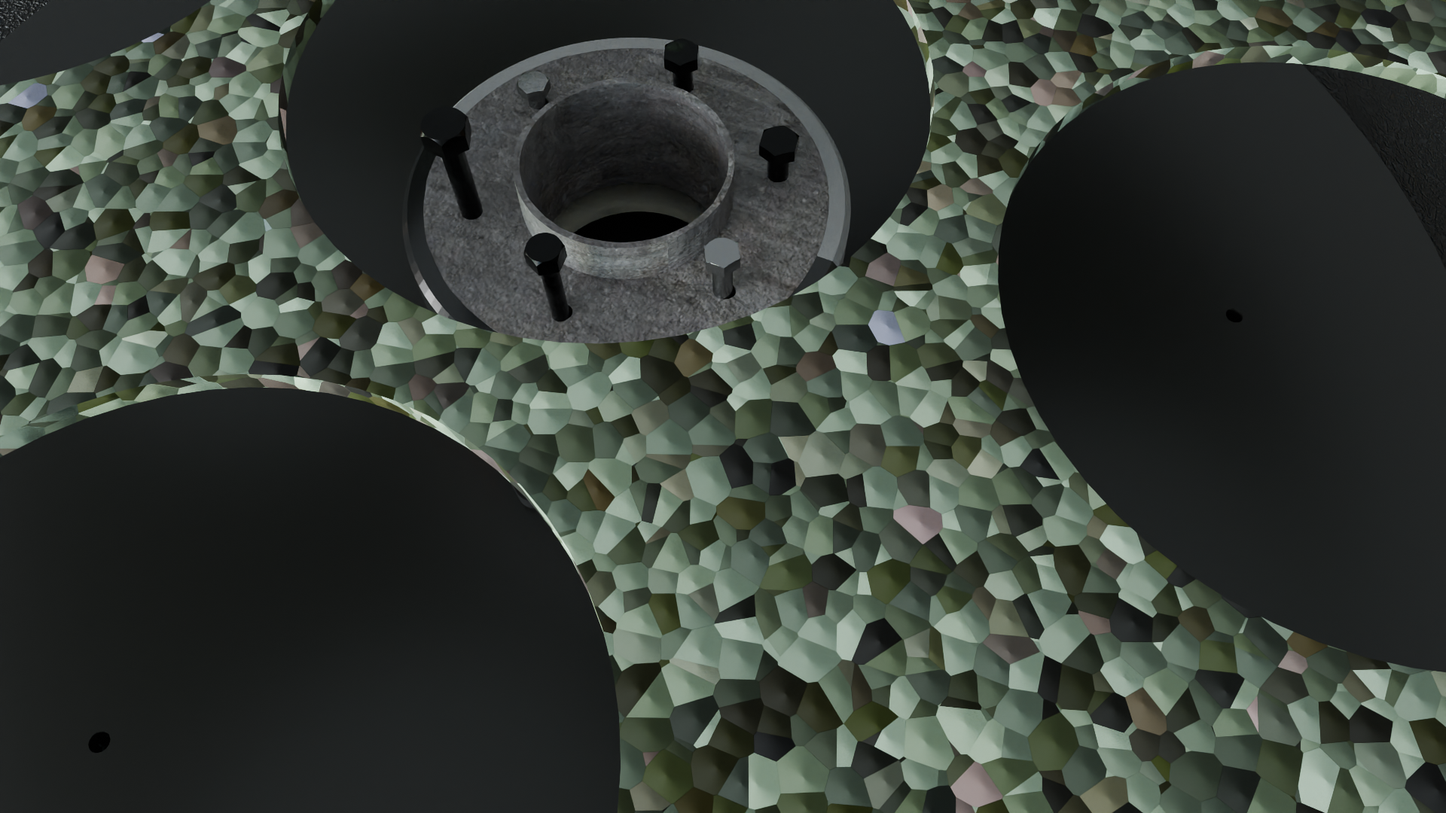bolt: (420, 106, 468, 147), (523, 233, 565, 266), (759, 125, 799, 156), (704, 236, 740, 269), (664, 38, 698, 66), (517, 70, 549, 94)
